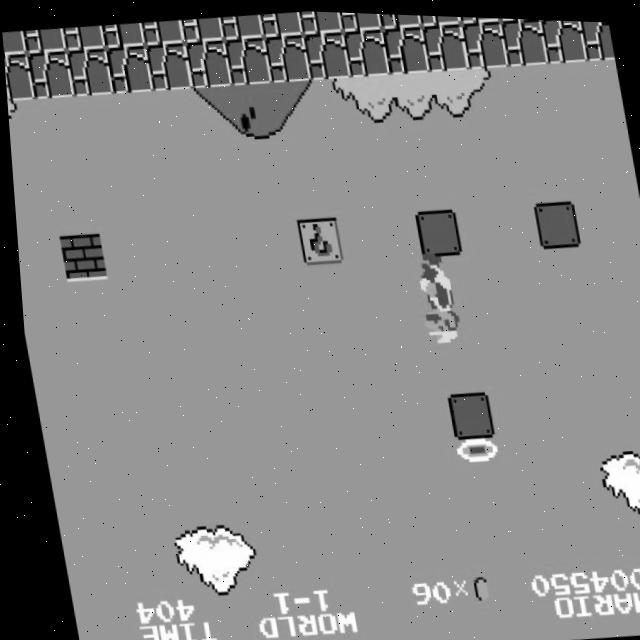1- brick_block: (55, 231, 104, 283)
13- mystery_block: (292, 213, 341, 264)
17- undestructible_block: (460, 15, 509, 67), (420, 18, 469, 70), (341, 24, 390, 76), (183, 36, 232, 88), (104, 42, 153, 94), (262, 31, 311, 82), (25, 49, 74, 100), (302, 27, 350, 79), (223, 33, 271, 85), (65, 45, 113, 97), (381, 21, 429, 72), (144, 40, 192, 91), (499, 15, 548, 63), (539, 16, 588, 60), (3, 52, 34, 103), (579, 17, 614, 57), (259, 8, 304, 36), (219, 11, 264, 39), (140, 17, 185, 45), (100, 20, 145, 48), (61, 23, 106, 51), (21, 26, 66, 54), (180, 14, 224, 42), (298, 9, 342, 33), (338, 10, 382, 30), (378, 11, 422, 27), (2, 29, 26, 57), (418, 12, 462, 23), (457, 13, 500, 21)
3- empty_block: (529, 195, 578, 246), (411, 204, 460, 255), (441, 387, 489, 437)
4- fire_mario: (406, 247, 464, 347)
6- flower: (448, 429, 496, 463)
